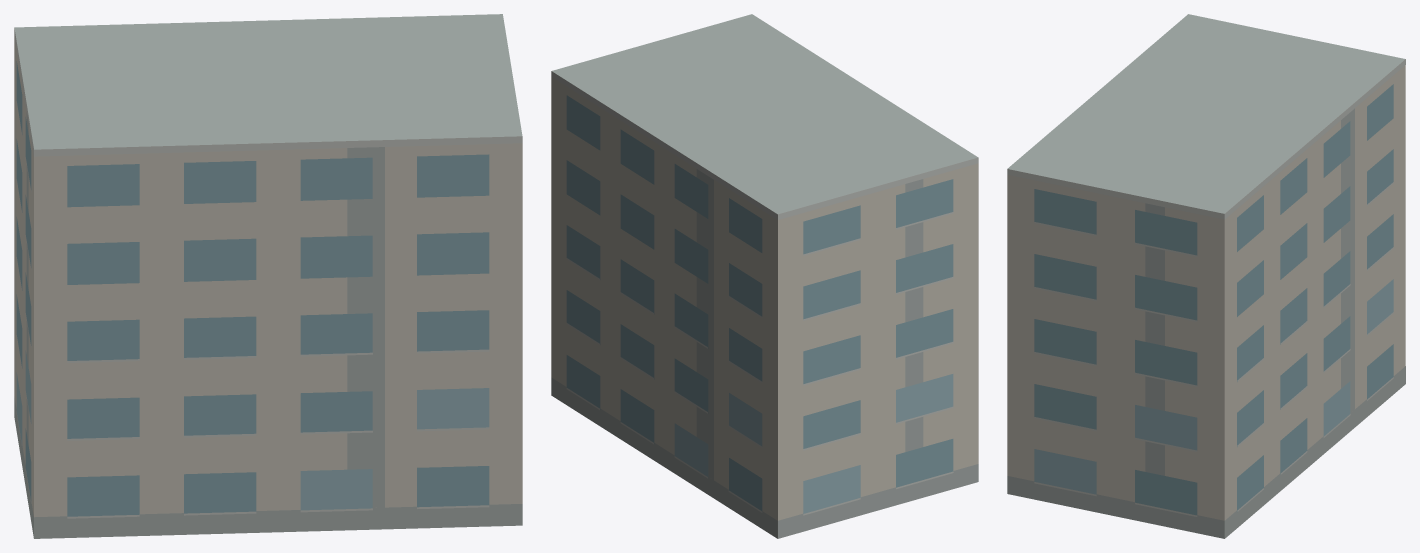
Rendered from survey-upis-32893093.glb.
The picture shows the model from 3 angles, left to right: view 1: azimuth 30°, elevation 25°; view 2: azimuth 150°, elevation 25°; view 3: azimuth 270°, elevation 25°; orthographic projection. The views are drawn at different scales.
Visible parts, largest first — view 1: survey-upis-32893093.tmp; view 2: survey-upis-32893093.tmp; view 3: survey-upis-32893093.tmp.
Boxes of the visible parts, x1=… form: survey-upis-32893093.tmp: x1=14, y1=14, x2=522, y2=538; survey-upis-32893093.tmp: x1=551, y1=14, x2=978, y2=538; survey-upis-32893093.tmp: x1=1007, y1=14, x2=1405, y2=538.
Size of the model in its own units: 18.08 by 13.7 by 15.23.
